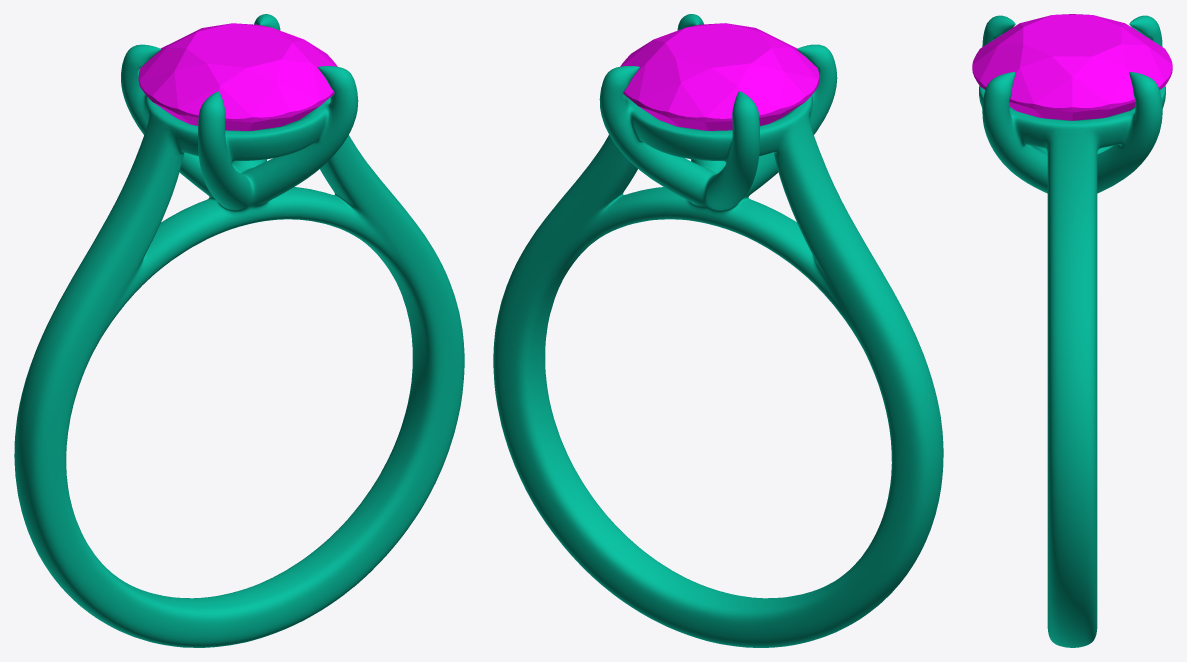
Rendered from BE12112_RD_200ct_RENDER.glb.
The picture shows the model from 3 angles, left to right: view 1: azimuth 30°, elevation 25°; view 2: azimuth 150°, elevation 25°; view 3: azimuth 270°, elevation 25°; orthographic projection.
Visible parts, largest first — view 1: Metal 01, CS_Diamond_Round; view 2: Metal 01, CS_Diamond_Round; view 3: Metal 01, CS_Diamond_Round.
Part boxes in pixels (bbox=[...]): Metal 01: bbox=[14, 14, 464, 647]; CS_Diamond_Round: bbox=[138, 23, 337, 130]; Metal 01: bbox=[493, 14, 943, 647]; CS_Diamond_Round: bbox=[620, 23, 819, 130]; Metal 01: bbox=[979, 15, 1165, 647]; CS_Diamond_Round: bbox=[972, 14, 1172, 120].
Bounding box in the file's own units: 20.14 × 25.97 × 8.
